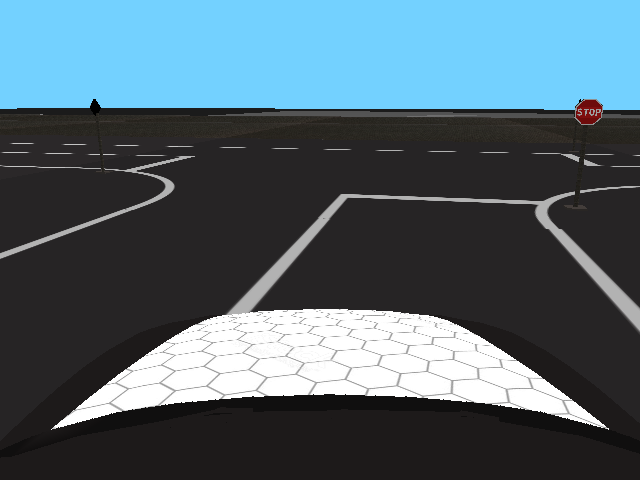stop: (574, 98, 603, 127)
